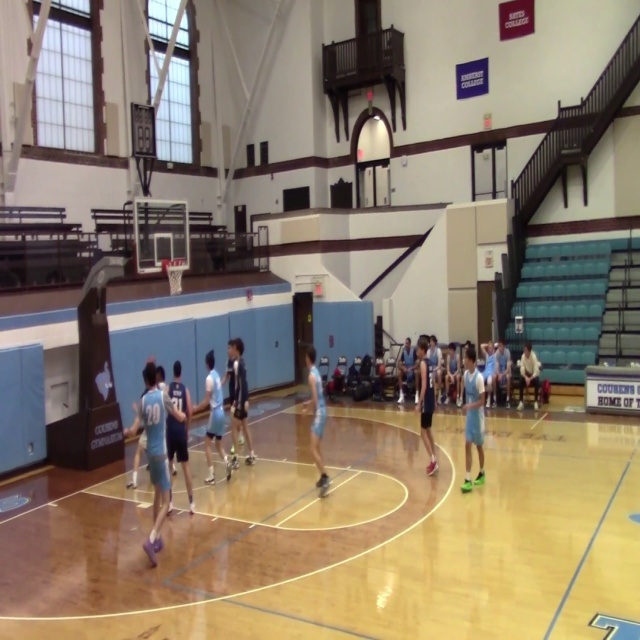Basketball: (230, 446, 236, 454)
